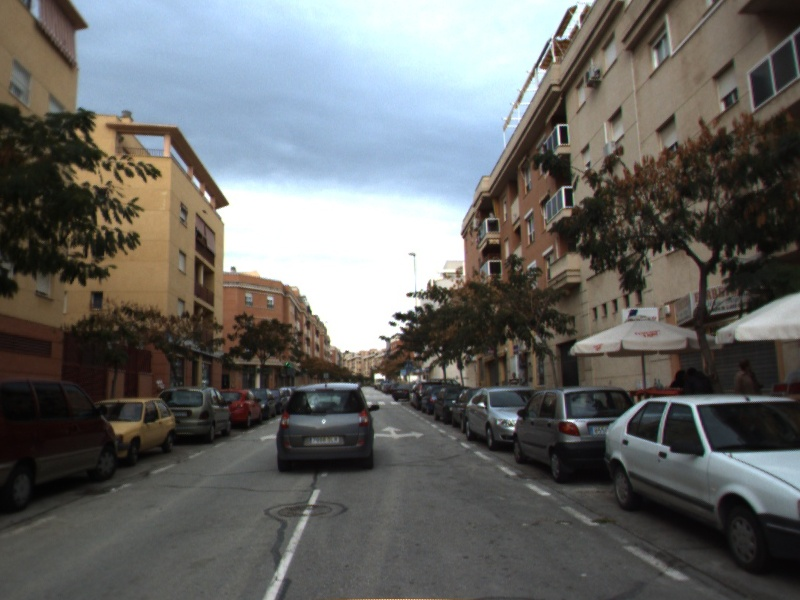STRAIGHT_LEFT_RIGHT: (374, 424, 427, 441)
